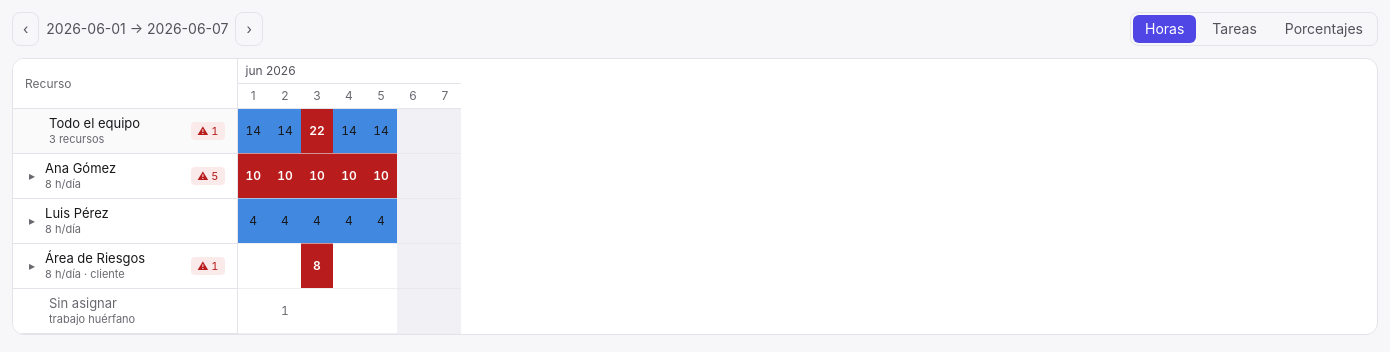
Test: §8.5 · cambiar de modo recalcula sin recargar › en porcentajes, el porcentaje
Click the button "Porcentajes".
click(1324, 29)  # box 1273,15 -> 1375,43
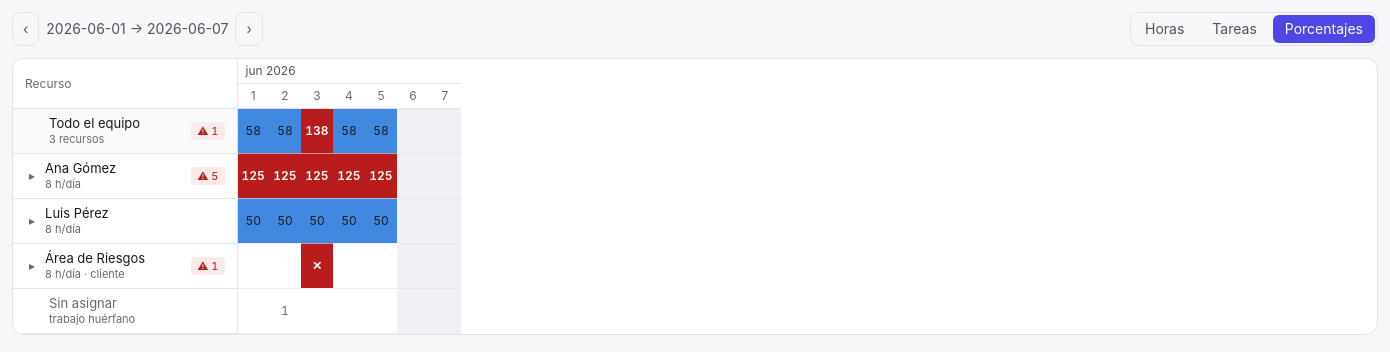
Expected: the cell with test id "celda-ana-2026-06-01" reads "125", 242,168 -> 265,183
Expected: the cell with test id "celda-luis-2026-06-01" reads "50", 246,213 -> 261,228
